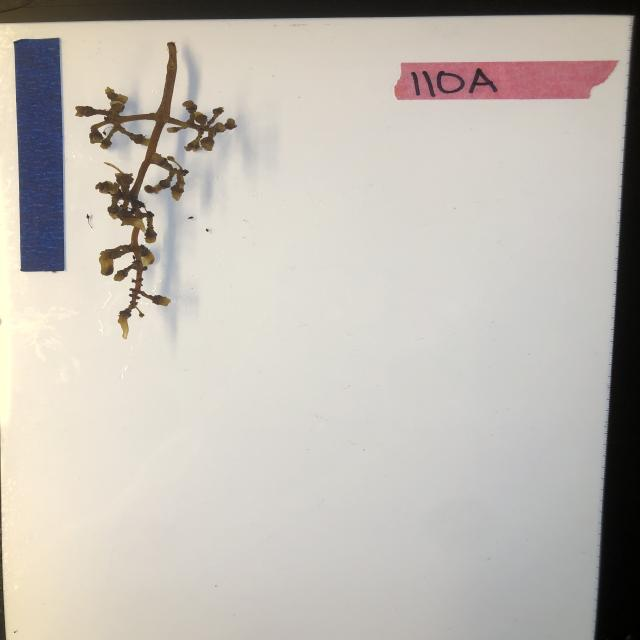index: (393, 61, 616, 99)
measure_label: (13, 37, 66, 272)
rachis_cluster: (78, 40, 246, 342)
